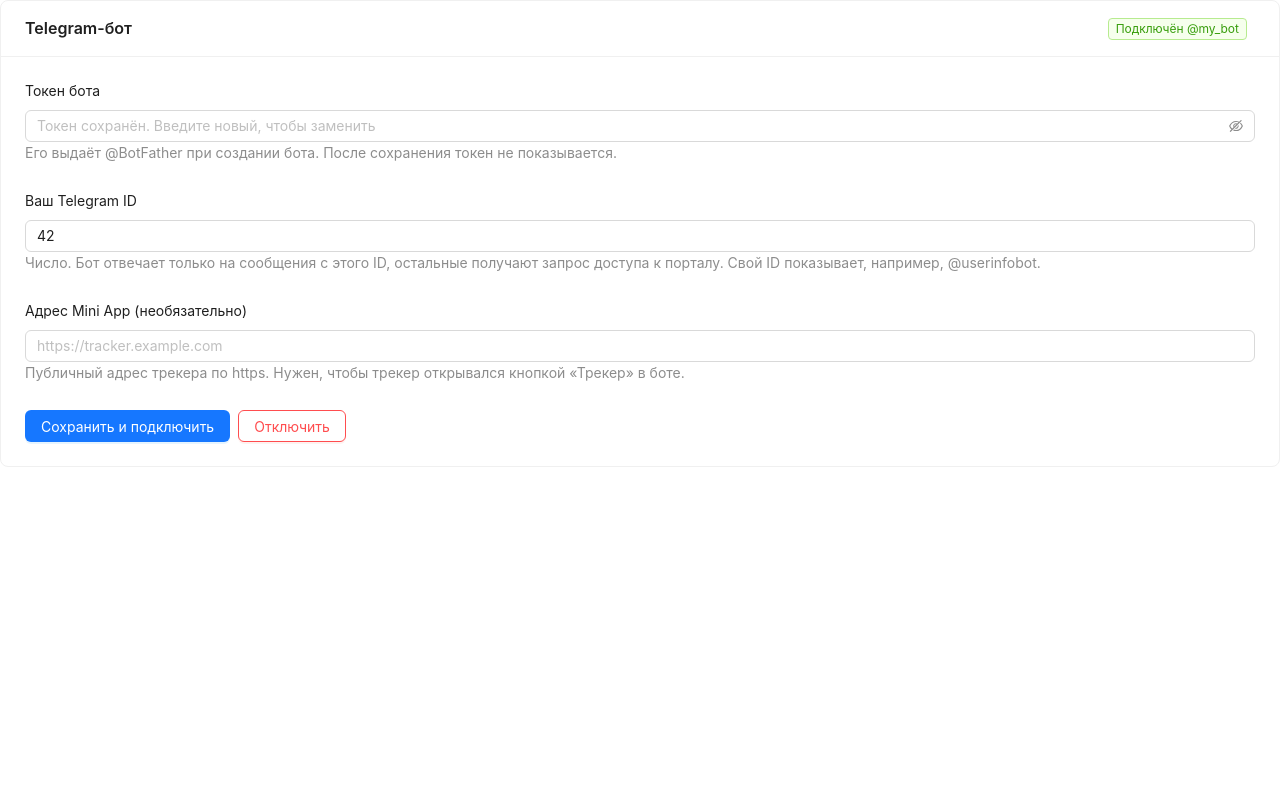
Настройки: Telegram-бот › предупреждает, если бот не смог написать владельцу
Click the button "Сохранить и подключить". click: click(128, 426)
box: [25,410,230,442]
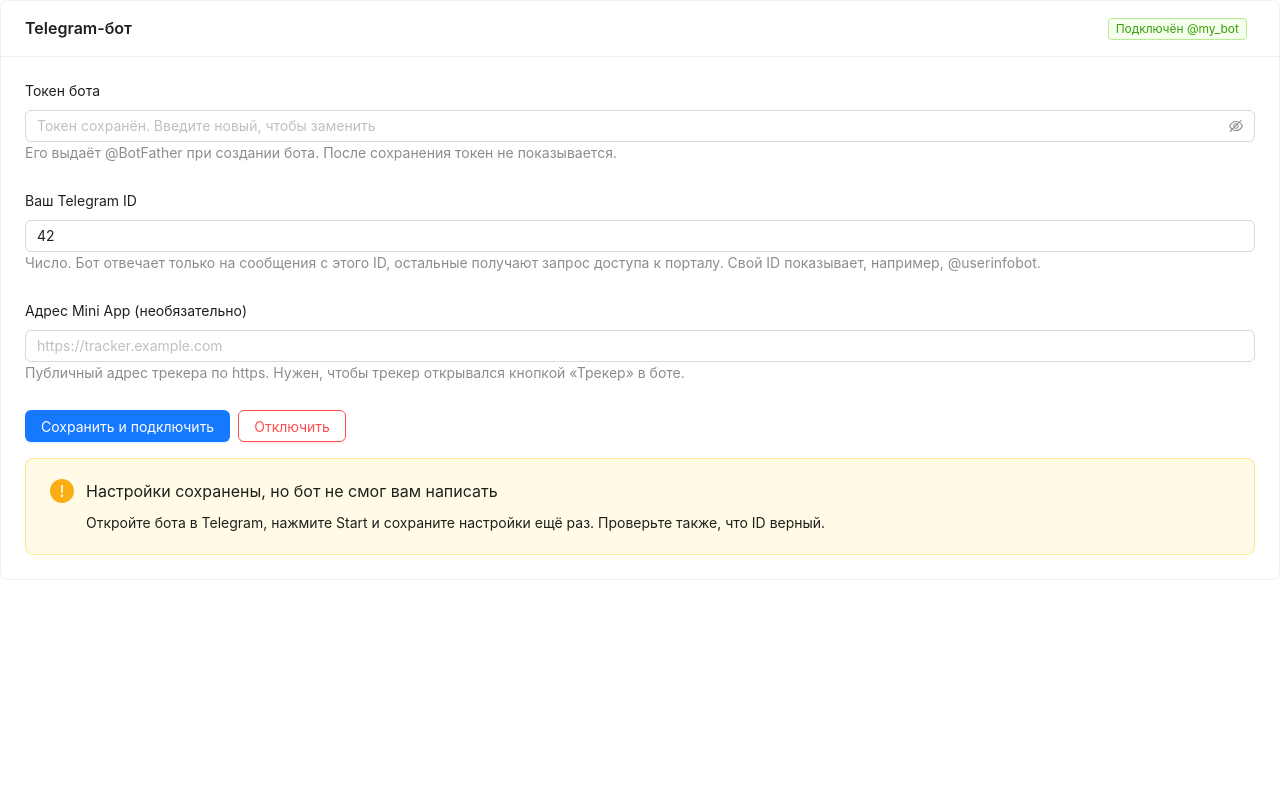
Expected: the text "Настройки сохранены, но бот не смог вам написать" is shown, [86,481,498,501]
